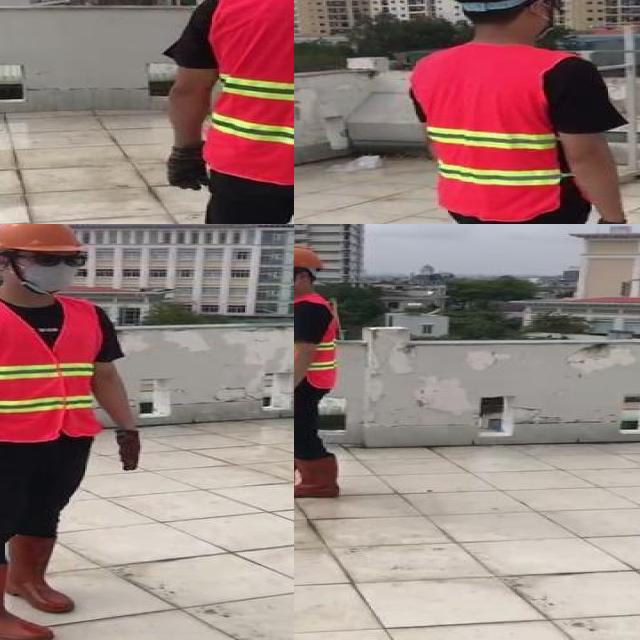boots: (7, 535, 76, 611), (0, 555, 51, 640), (294, 457, 344, 498)
face_mask: (15, 247, 86, 294)
glasses: (22, 247, 88, 270)
hand_glove: (164, 146, 207, 191), (114, 429, 140, 474)
head_helmet: (0, 224, 92, 256), (294, 245, 324, 270)
person: (0, 224, 148, 640), (394, 0, 640, 224), (140, 0, 294, 224), (294, 242, 353, 501)
vest: (412, 46, 572, 218), (208, 0, 294, 187), (0, 296, 101, 441), (294, 301, 342, 388)
